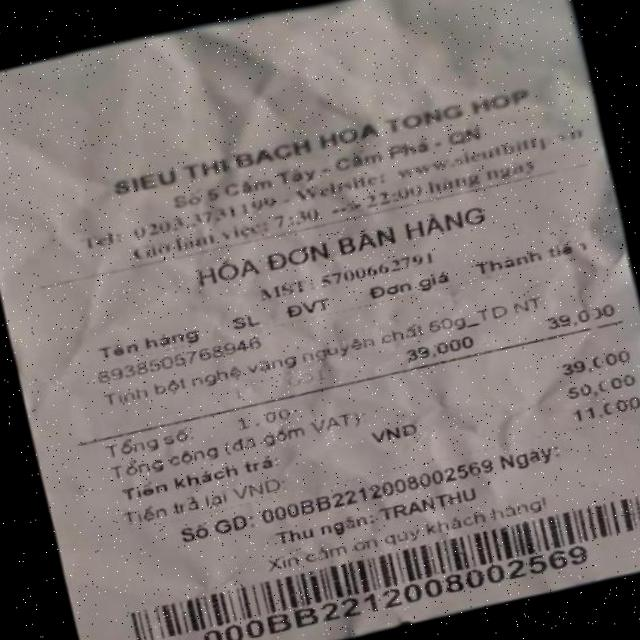Store_Name: (66, 55, 543, 214)
amount_number: (548, 341, 638, 386)
label_total: (104, 436, 226, 488)
